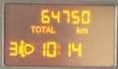0: (45, 39, 57, 58), (80, 9, 90, 24)
1: (66, 40, 71, 57), (41, 41, 46, 57)
3: (8, 40, 17, 56)
4: (71, 41, 81, 57), (50, 9, 60, 22)
5: (70, 9, 79, 24)
6: (40, 8, 49, 23)
7: (60, 9, 70, 23)
X: (49, 24, 56, 34), (79, 27, 88, 34), (34, 24, 41, 33), (56, 43, 61, 55), (29, 24, 35, 33), (75, 25, 80, 34), (45, 25, 50, 33), (40, 25, 45, 33)
